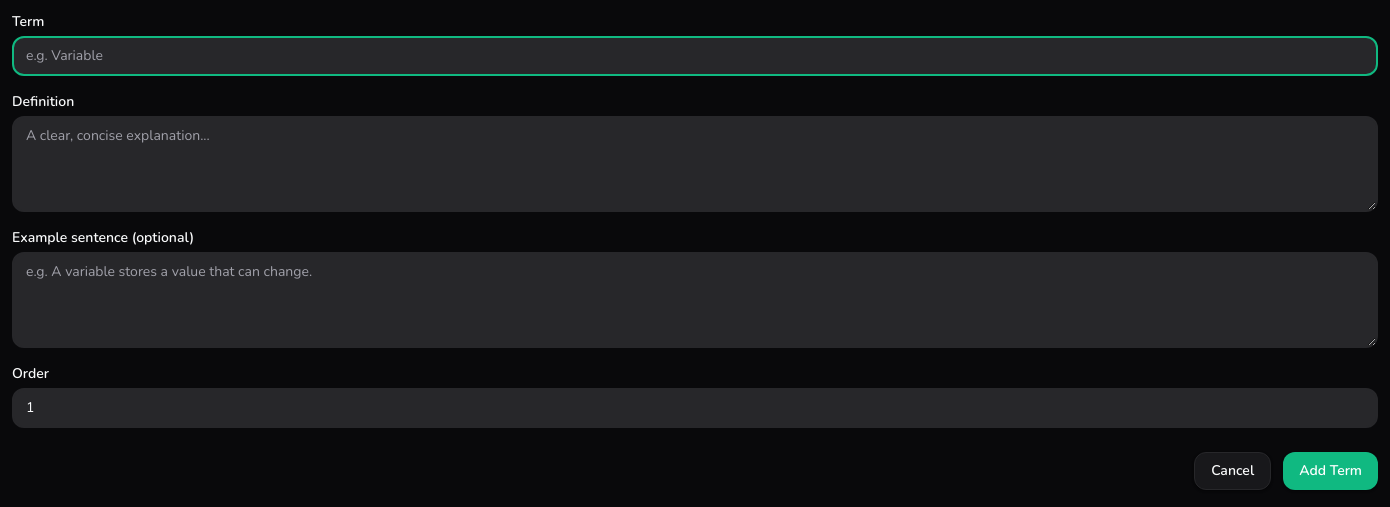
it: VocabForm › shows Saving state during submission
This screenshot has width=1390, height=507.
Type "Variable" into the field labelled "Term" at (695, 56), box left=12, top=36, right=1378, bottom=76
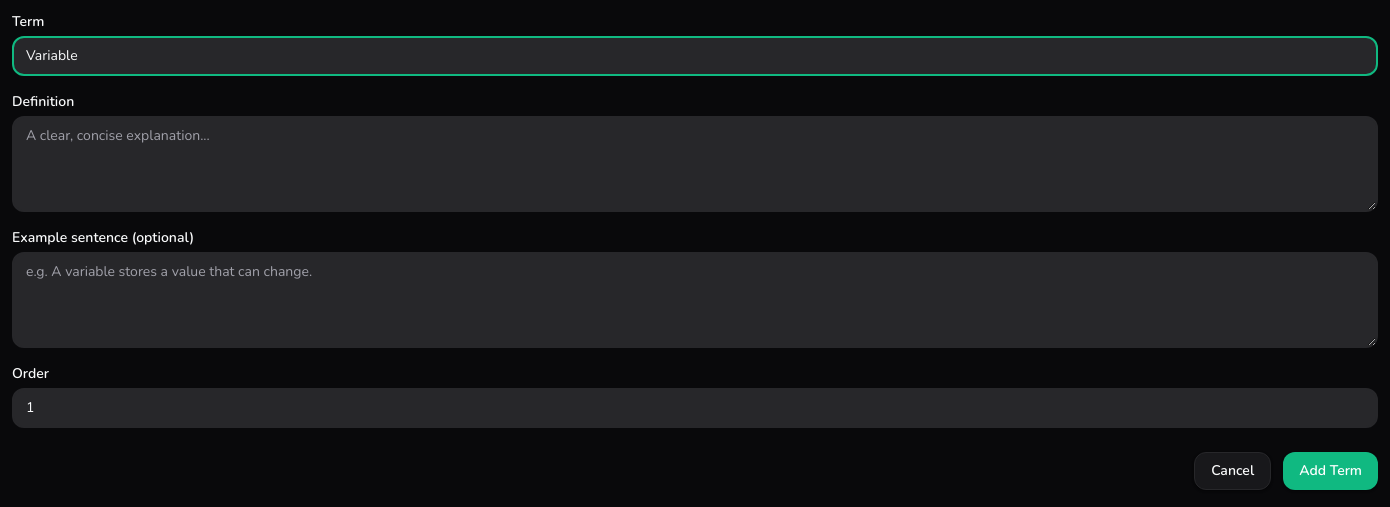
Type "A storage location." into the text box labelled "Definition" at (695, 164), box left=12, top=116, right=1378, bottom=212
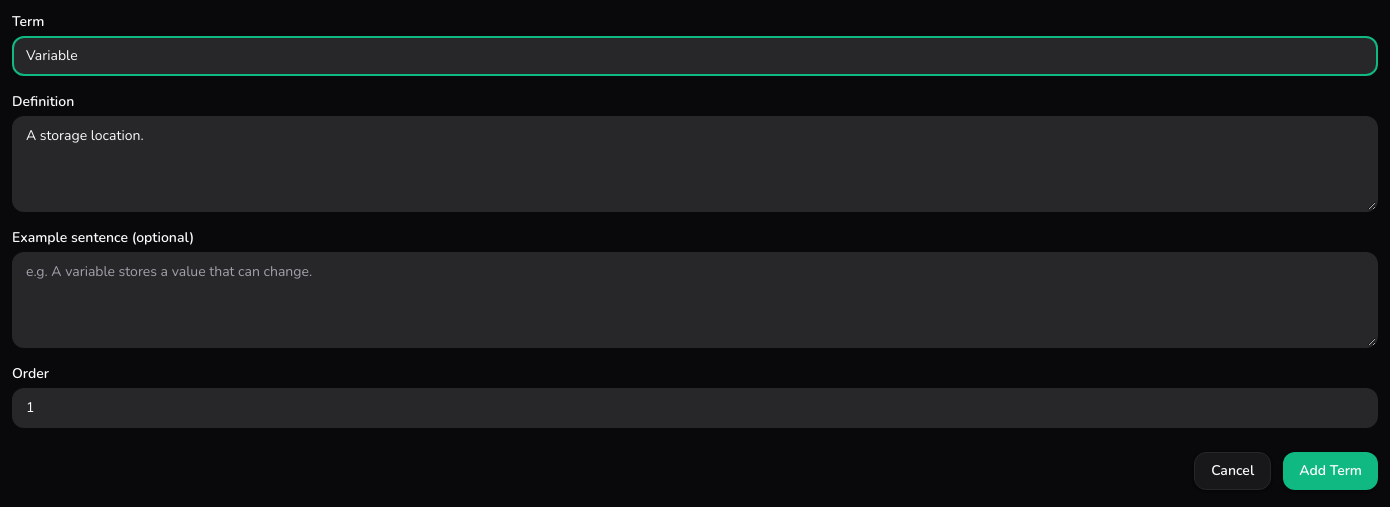
Click the button "Add Term" at (1331, 471), box left=1283, top=452, right=1378, bottom=490
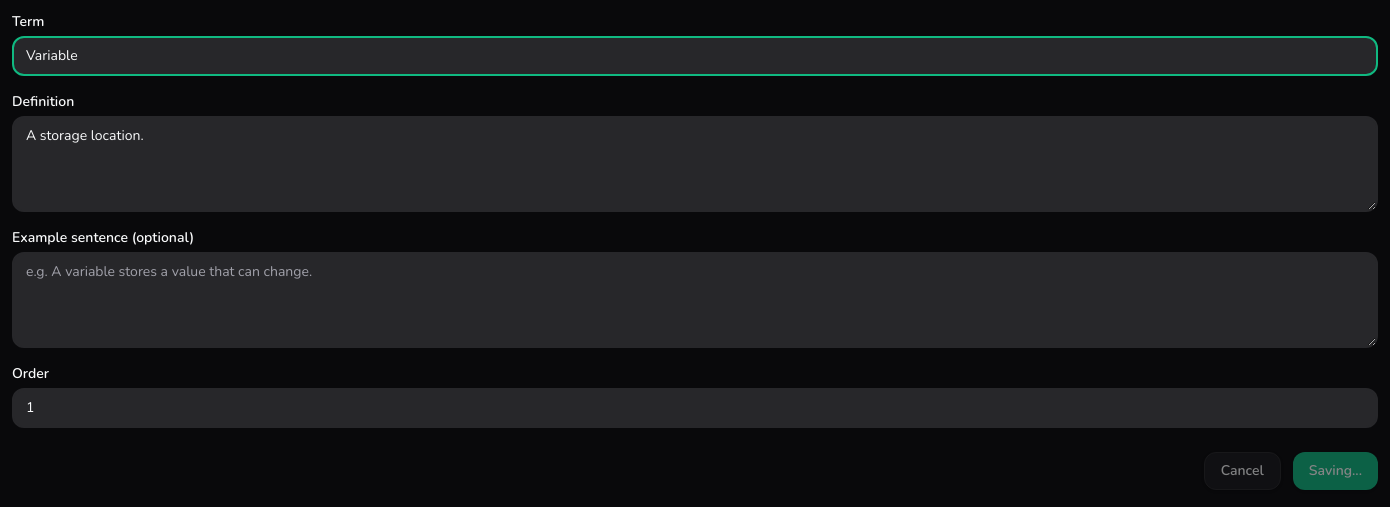
Now the button "Saving..." is shown, box left=1293, top=452, right=1378, bottom=490
